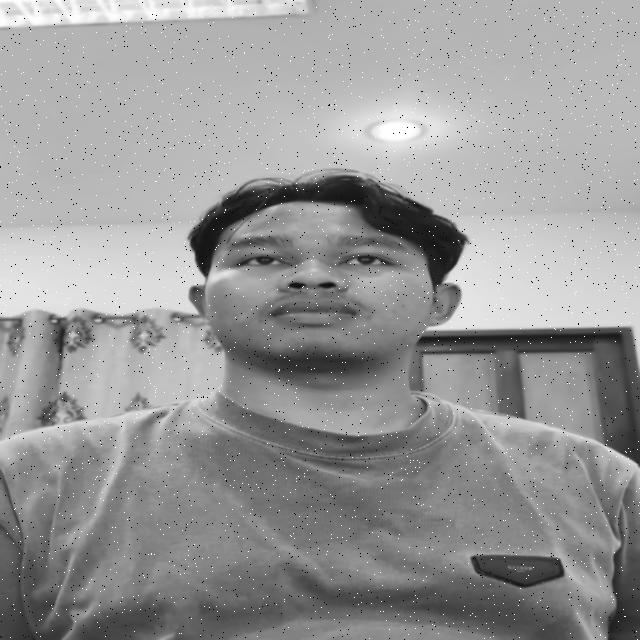ear: (428, 283, 461, 326)
